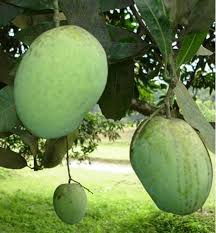mango: (11, 20, 111, 141), (127, 109, 214, 219), (49, 177, 100, 225)
